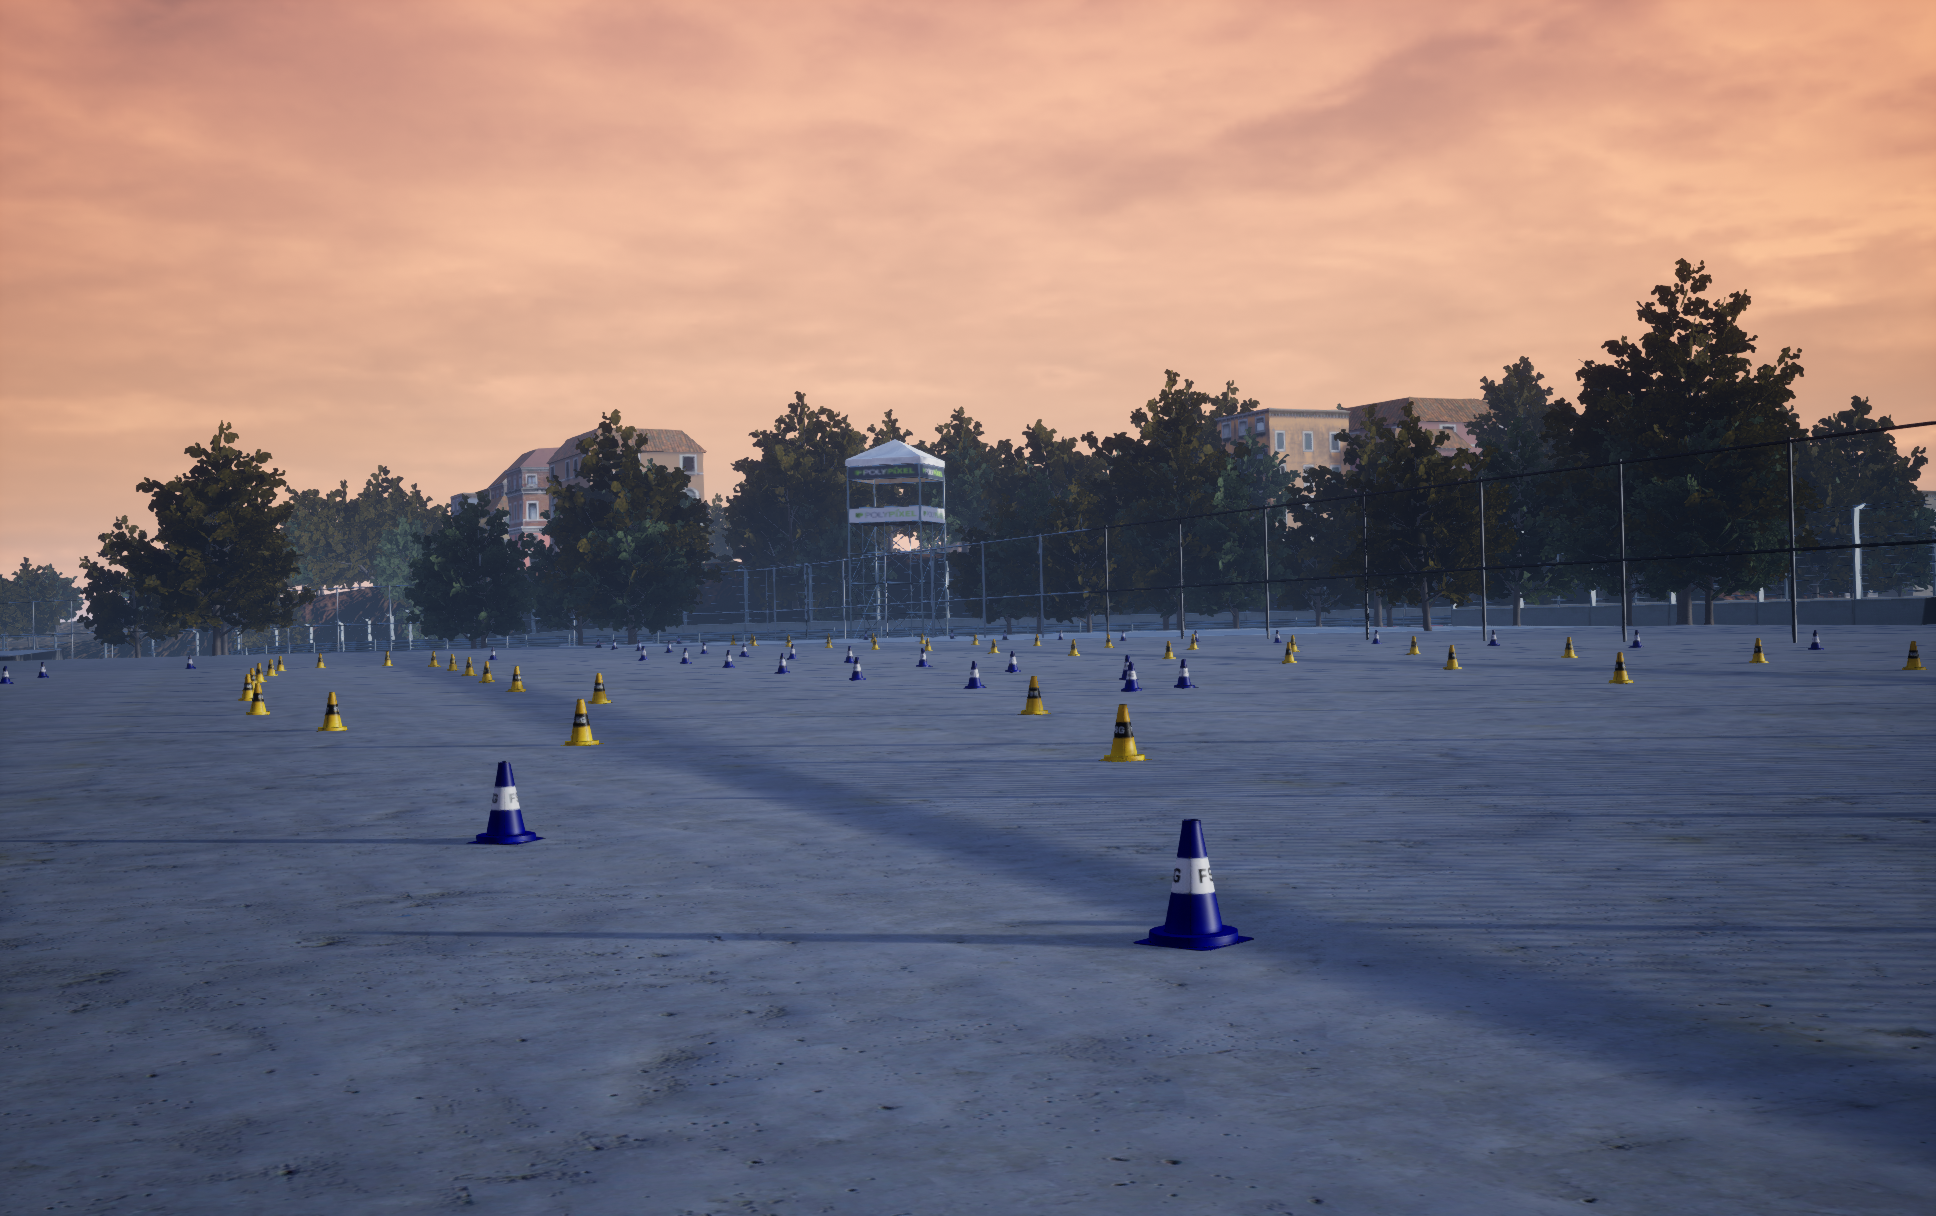blue: (1098, 705, 1152, 761), (560, 699, 602, 745), (1017, 677, 1051, 714), (317, 692, 347, 731), (1608, 651, 1633, 684), (588, 672, 612, 703), (1902, 642, 1928, 670), (247, 684, 269, 714), (504, 665, 525, 691), (1440, 644, 1461, 670), (1750, 637, 1768, 663), (238, 674, 254, 700), (242, 668, 261, 691), (478, 661, 495, 682), (1279, 642, 1296, 663), (1561, 637, 1577, 657), (461, 657, 478, 675), (1405, 636, 1420, 654), (1161, 642, 1175, 658)
yellow: (1133, 820, 1252, 950), (466, 761, 545, 843), (1174, 658, 1198, 688), (962, 661, 986, 688), (1121, 663, 1140, 691), (1119, 656, 1138, 679), (849, 657, 864, 679), (1004, 651, 1020, 672), (775, 653, 789, 672), (916, 649, 932, 665), (1809, 630, 1823, 649), (721, 650, 734, 667)
